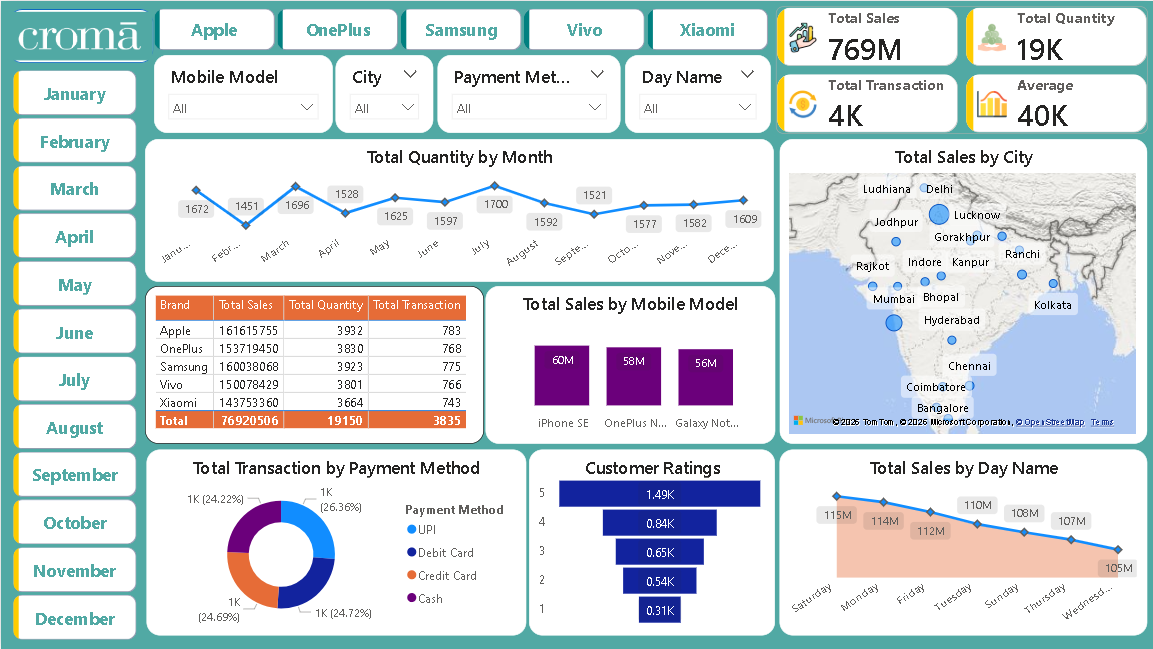

The dashboard page shown, as its layout file describes it:
{"tool":"powerbi","page":{"name":"Page 1","canvas":[1280,720],"ordinal":0},"visuals":[{"type":"shape","box":[0,0,178.1,77.9],"z":0},{"type":"image","box":[6.7,0,161.7,78.3],"z":1000},{"type":"advancedSlicerVisual","fields":{"Values":["Mobile Sales Data.Date.Variation.Date Hierarchy.Month"]},"box":[8,71.6,147.9,649],"z":2000},{"type":"cardVisual","fields":{"Data":["Mobile Sales Data.Total Sales","Mobile Sales Data.Total Quantity","Mobile Sales Data.Total Transaction","Mobile Sales Data.Average"]},"box":[855,0,425,153.3],"z":3000},{"type":"map","fields":{"Category":["Mobile Sales Data.City"],"Size":["Mobile Sales Data.Total Sales"]},"box":[865,153.3,408.3,338.3],"z":4000},{"type":"lineChart","fields":{"Category":["Mobile Sales Data.Date.Variation.Date Hierarchy.Month","Mobile Sales Data.Date.Variation.Date Hierarchy.Day"],"Y":["Mobile Sales Data.Total Quantity"]},"box":[160,153.3,698.3,158.3],"z":5000},{"type":"clusteredColumnChart","fields":{"Category":["Mobile Sales Data.Mobile Model"],"Y":["Mobile Sales Data.Total Sales"]},"box":[538.3,316.7,321.7,175],"z":6000},{"type":"donutChart","fields":{"Y":["Mobile Sales Data.Total Transaction"],"Category":["Mobile Sales Data.Payment Method"]},"box":[161.7,498.3,421.7,206.7],"z":7000},{"type":"funnel","title":"Customer Ratings","fields":{"Category":["Mobile Sales Data.Customer Ratings"],"Y":["CountNonNull(Mobile Sales Data.Customer Ratings)"]},"box":[586.7,498.3,273.3,206.7],"z":8000},{"type":"areaChart","fields":{"Category":["Mobile Sales Data.Day Name"],"Y":["Mobile Sales Data.Total Sales"]},"box":[865,498.3,408.3,206.7],"z":9000},{"type":"tableEx","fields":{"Values":["Mobile Sales Data.Brand","Mobile Sales Data.Total Sales","Mobile Sales Data.Total Quantity","Mobile Sales Data.Total Transaction"]},"box":[160,316.7,376.7,175],"z":10000},{"type":"slicer","fields":{"Values":["Mobile Sales Data.Mobile Model"]},"box":[170,60,198.3,86.7],"z":11000},{"type":"slicer","fields":{"Values":["Mobile Sales Data.Payment Method"]},"box":[485,60,203.3,86.7],"z":12000},{"type":"slicer","fields":{"Values":["Mobile Sales Data.Day Name"]},"box":[693.3,60,161.7,86.7],"z":13000},{"type":"advancedSlicerVisual","fields":{"Values":["Mobile Sales Data.Brand"]},"box":[165,3.3,693.3,56.7],"z":14000},{"type":"slicer","fields":{"Values":["Mobile Sales Data.City"]},"box":[371.7,60,108.3,86.7],"z":15000}]}

Visuals, with their boxes in screenshot pixels (x1, y1, x2, y2), scaled from the page's 1280x720 canvas onto the 1153x649 screenshot:
shape: <region>0, 0, 160, 70</region>
image: <region>6, 0, 152, 71</region>
advancedSlicerVisual - Mobile Sales Data.Date.Variation.Date Hierarchy.Month: <region>7, 65, 140, 648</region>
cardVisual - Mobile Sales Data.Total Sales x Mobile Sales Data.Total Quantity: <region>770, 0, 1152, 138</region>
map - Mobile Sales Data.City x Mobile Sales Data.Total Sales: <region>779, 138, 1147, 443</region>
lineChart - Mobile Sales Data.Date.Variation.Date Hierarchy.Month x Mobile Sales Data.Date.Variation.Date Hierarchy.Day: <region>144, 138, 773, 281</region>
clusteredColumnChart - Mobile Sales Data.Mobile Model x Mobile Sales Data.Total Sales: <region>485, 285, 775, 443</region>
donutChart - Mobile Sales Data.Total Transaction x Mobile Sales Data.Payment Method: <region>146, 449, 526, 635</region>
"Customer Ratings" funnel: <region>528, 449, 775, 635</region>
areaChart - Mobile Sales Data.Day Name x Mobile Sales Data.Total Sales: <region>779, 449, 1147, 635</region>
tableEx - Mobile Sales Data.Brand x Mobile Sales Data.Total Sales: <region>144, 285, 483, 443</region>
slicer - Mobile Sales Data.Mobile Model: <region>153, 54, 332, 132</region>
slicer - Mobile Sales Data.Payment Method: <region>437, 54, 620, 132</region>
slicer - Mobile Sales Data.Day Name: <region>625, 54, 770, 132</region>
advancedSlicerVisual - Mobile Sales Data.Brand: <region>149, 3, 773, 54</region>
slicer - Mobile Sales Data.City: <region>335, 54, 432, 132</region>
